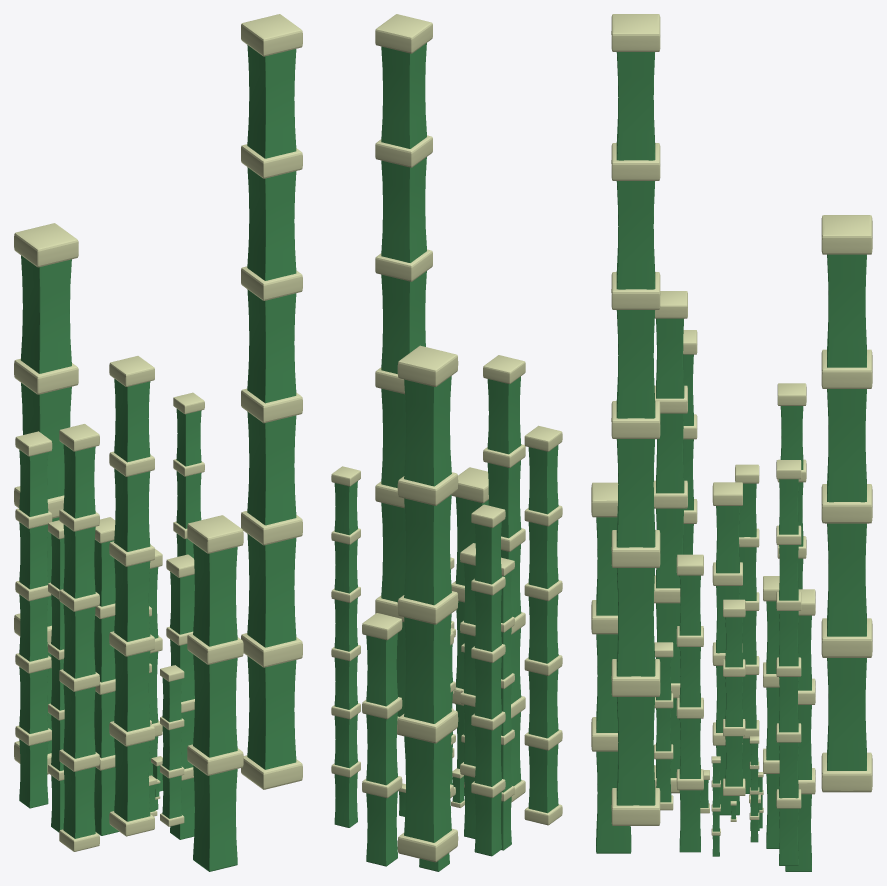
The model's file is Bamboo_Mature.fbx.
3 views of the same model, side by side, from view 1: azimuth 30°, elevation 25°; view 2: azimuth 150°, elevation 25°; view 3: azimuth 270°, elevation 25° (orthographic). The views are drawn at different scales.
Visible parts, largest first — view 1: Cube_13_18, Cube_3_4, Cube_5_4, Cube_7_4, Cube_13_4, Cube_9_4, Cube_11_4, Cube_9_3, Cube_11_3, Cube_13_3, Cube_11_18, Cube_9_5 (+59 smaller); view 2: Cube_13_18, Cube_7_18, Cube_9_18, Cube_11_18, Cube_11_4, Cube_13_4, Cube_9_4, Cube_13_5, Cube_5_4, Cube_7_4, Cube_9_19, Cube_11_19 (+52 smaller); view 3: Cube_9_18, Cube_13_18, Cube_11_18, Cube_7_18, Cube_3_4, Cube_5_4, Cube_7_4, Cube_9_4, Cube_11_4, Cube_13_4, Cube_9_3, Cube_13_5 (+58 smaller).
Part boxes in pixels (bbox=[...]): Cube_13_18: bbox=[20, 255, 71, 373]; Cube_3_4: bbox=[247, 656, 296, 769]; Cube_5_4: bbox=[247, 534, 296, 647]; Cube_7_4: bbox=[247, 411, 296, 525]; Cube_13_4: bbox=[247, 45, 296, 158]; Cube_9_4: bbox=[247, 289, 296, 403]; Cube_11_4: bbox=[247, 167, 296, 280]; Cube_9_3: bbox=[193, 765, 237, 871]; Cube_11_3: bbox=[193, 654, 237, 757]; Cube_13_3: bbox=[193, 543, 237, 646]; Cube_11_18: bbox=[21, 383, 71, 499]; Cube_9_5: bbox=[114, 558, 150, 641]; Cube_13_18: bbox=[404, 376, 451, 486]; Cube_7_18: bbox=[404, 732, 451, 842]; Cube_9_18: bbox=[404, 613, 451, 723]; Cube_11_18: bbox=[404, 495, 451, 605]; Cube_11_4: bbox=[381, 157, 426, 262]; Cube_13_4: bbox=[381, 43, 426, 148]; Cube_9_4: bbox=[381, 271, 426, 373]; Cube_13_5: bbox=[487, 376, 521, 454]; Cube_5_4: bbox=[381, 502, 405, 602]; Cube_7_4: bbox=[381, 388, 405, 487]; Cube_9_19: bbox=[366, 791, 397, 866]; Cube_11_19: bbox=[366, 712, 397, 785]; Cube_9_18: bbox=[827, 523, 866, 636]; Cube_13_18: bbox=[827, 254, 866, 367]; Cube_11_18: bbox=[827, 389, 866, 502]; Cube_7_18: bbox=[827, 658, 866, 770]; Cube_3_4: bbox=[616, 697, 655, 805]; Cube_5_4: bbox=[616, 568, 655, 676]; Cube_7_4: bbox=[616, 439, 655, 547]; Cube_9_4: bbox=[616, 310, 655, 418]; Cube_11_4: bbox=[616, 181, 655, 289]; Cube_13_4: bbox=[616, 52, 655, 160]; Cube_9_3: bbox=[596, 751, 631, 853]; Cube_13_5: bbox=[656, 318, 684, 398].
Size of what is drawn, in the model's own units: 75.63 by 293 by 85.46.
